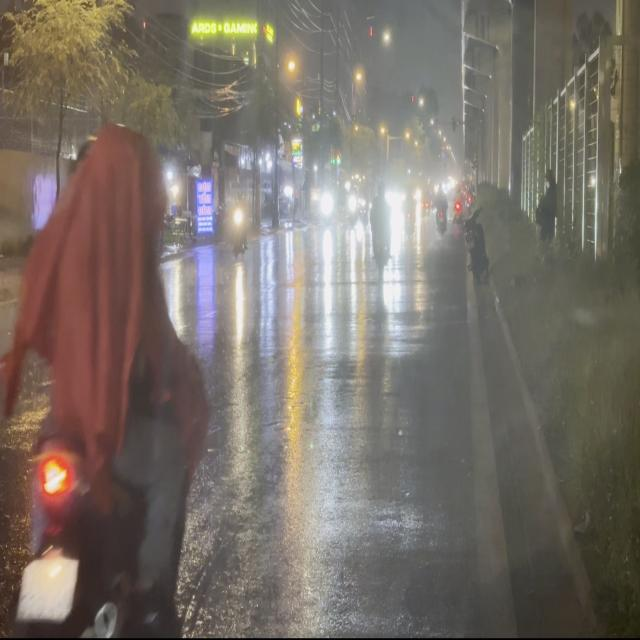licenseplate: (0, 114, 220, 631)
nohelmet: (18, 559, 77, 620)
